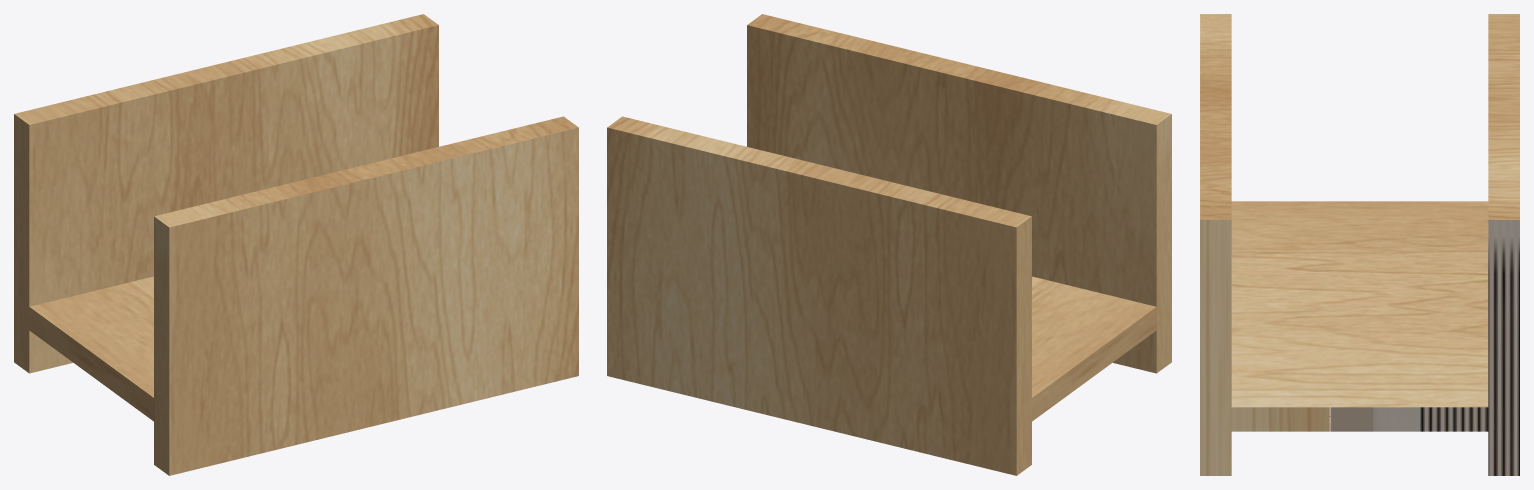
File: Подставка Для Системного Блока.fbx
The picture shows the model from 3 angles, left to right: view 1: azimuth 30°, elevation 25°; view 2: azimuth 150°, elevation 25°; view 3: azimuth 270°, elevation 25°; orthographic projection. The views are drawn at different scales.
Parts seen in each view (by area): view 1: Подставка_Для_Системного_Блока; view 2: Подставка_Для_Системного_Блока; view 3: Подставка_Для_Системного_Блока.
Part boxes in pixels (x1,y1,x2,y2): Подставка_Для_Системного_Блока: [14, 14, 578, 475]; Подставка_Для_Системного_Блока: [607, 14, 1171, 475]; Подставка_Для_Системного_Блока: [1200, 14, 1519, 475].
Bounding box in the file's own units: 45.28 × 26.25 × 29.71.
Materials: 1 (1 with a texture image).
